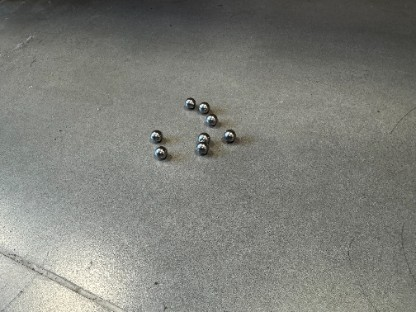ironball: (154, 146, 167, 158), (223, 129, 235, 142), (197, 132, 210, 144), (150, 130, 162, 142), (196, 142, 208, 154), (206, 113, 217, 125), (198, 102, 209, 113), (185, 97, 195, 109)
